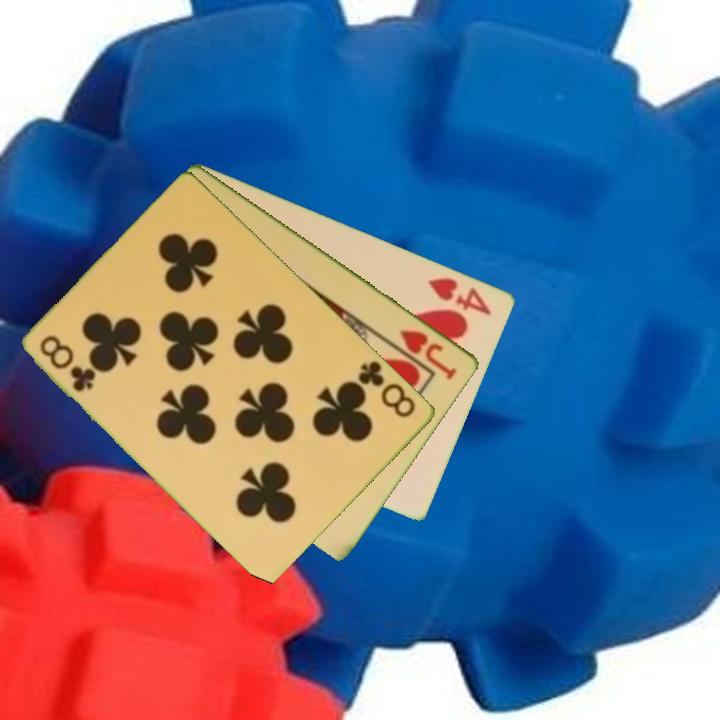4h: (424, 273, 495, 318)
8c: (355, 357, 419, 421), (37, 331, 100, 395)
Jh: (396, 325, 461, 383)
